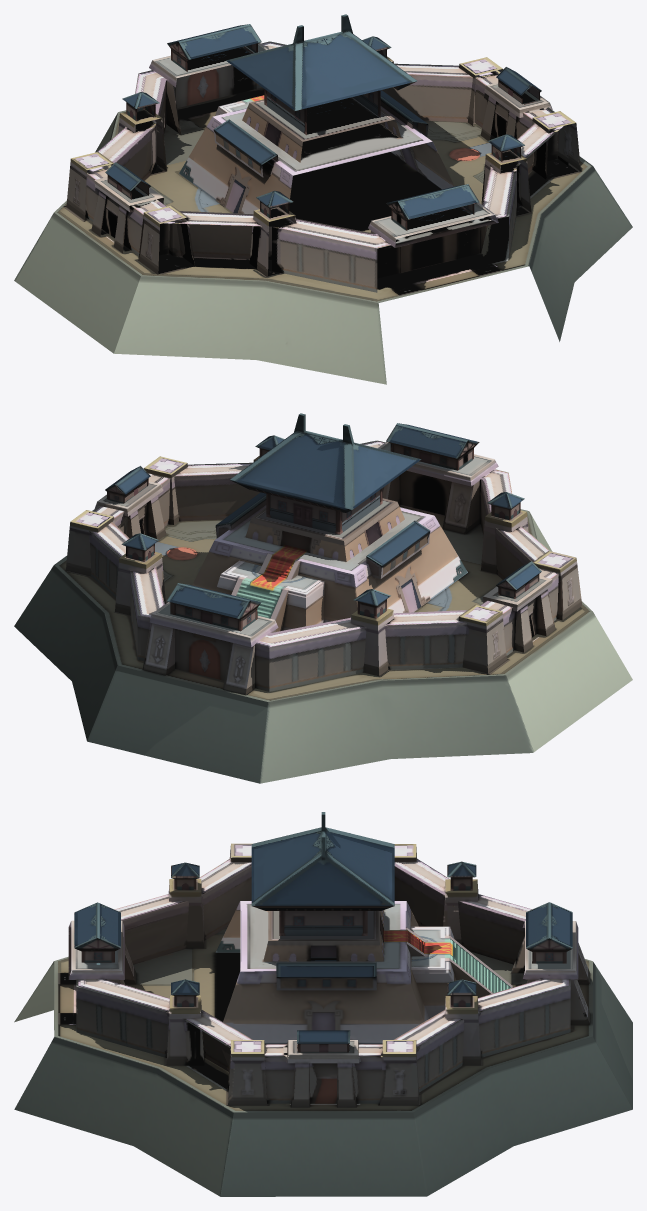
The model's file is Sce_worldmap_chengbao.fbx.
3 views of the same model, one above another, from view 1: azimuth 30°, elevation 25°; view 2: azimuth 150°, elevation 25°; view 3: azimuth 270°, elevation 25° (orthographic). The views are drawn at different scales.
Parts seen in each view (by area): view 1: Sce_worldmap_chengbao; view 2: Sce_worldmap_chengbao; view 3: Sce_worldmap_chengbao.
Part boxes in pixels (<box>): Sce_worldmap_chengbao: <box>14,14,632,384</box>; Sce_worldmap_chengbao: <box>14,413,632,783</box>; Sce_worldmap_chengbao: <box>14,812,632,1196</box>.
Size of the model in its own units: 390 by 167 by 389.
